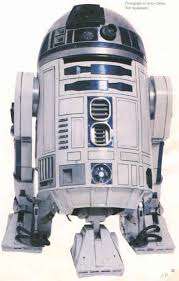r2d2: (1, 4, 175, 278)
